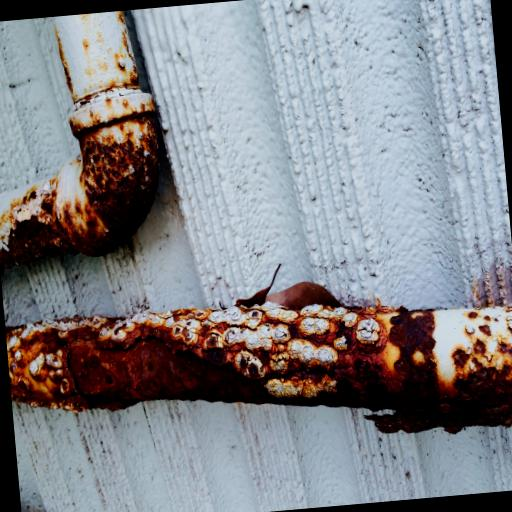corrosion: (0, 11, 158, 267), (9, 355, 80, 406)
